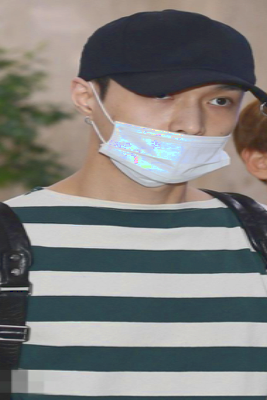mask_weared_incorrect: (93, 86, 241, 184)
